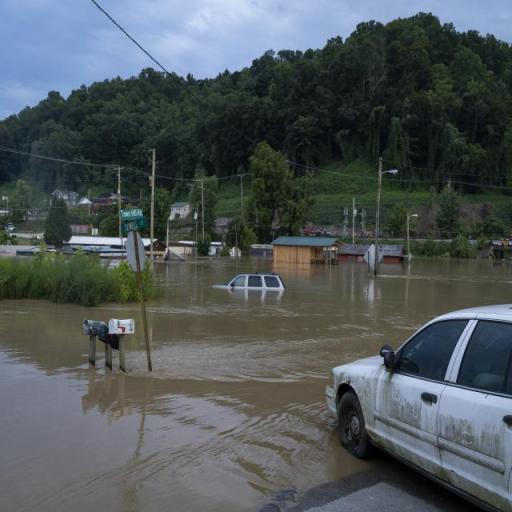flood: (0, 258, 512, 512)
house: (272, 234, 338, 268), (170, 198, 189, 220), (382, 244, 405, 262)
